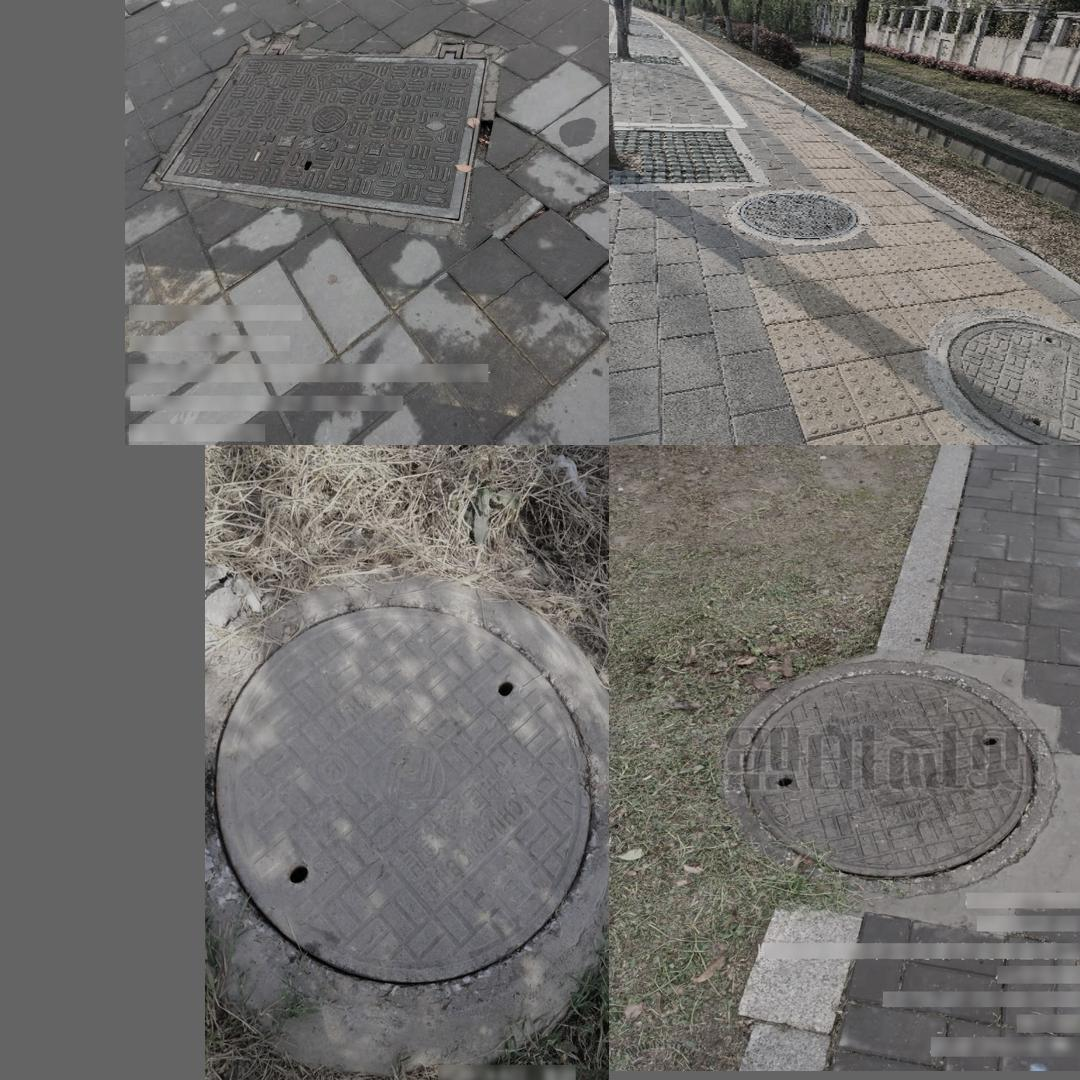good: (205, 578, 608, 1010), (725, 661, 1056, 896), (157, 42, 488, 224), (936, 312, 1080, 445), (729, 188, 868, 242)
